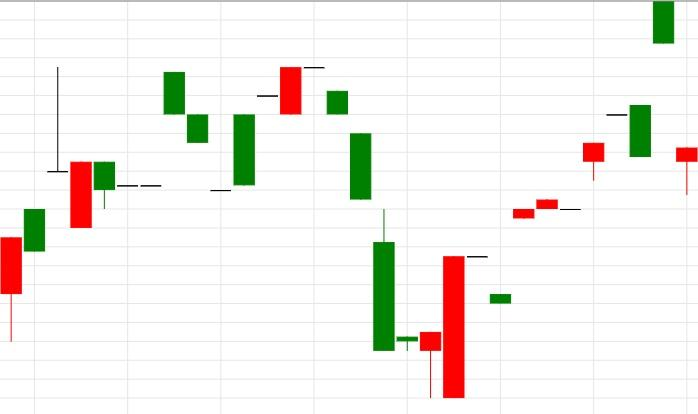hammer_rise: (279, 66, 442, 398)
